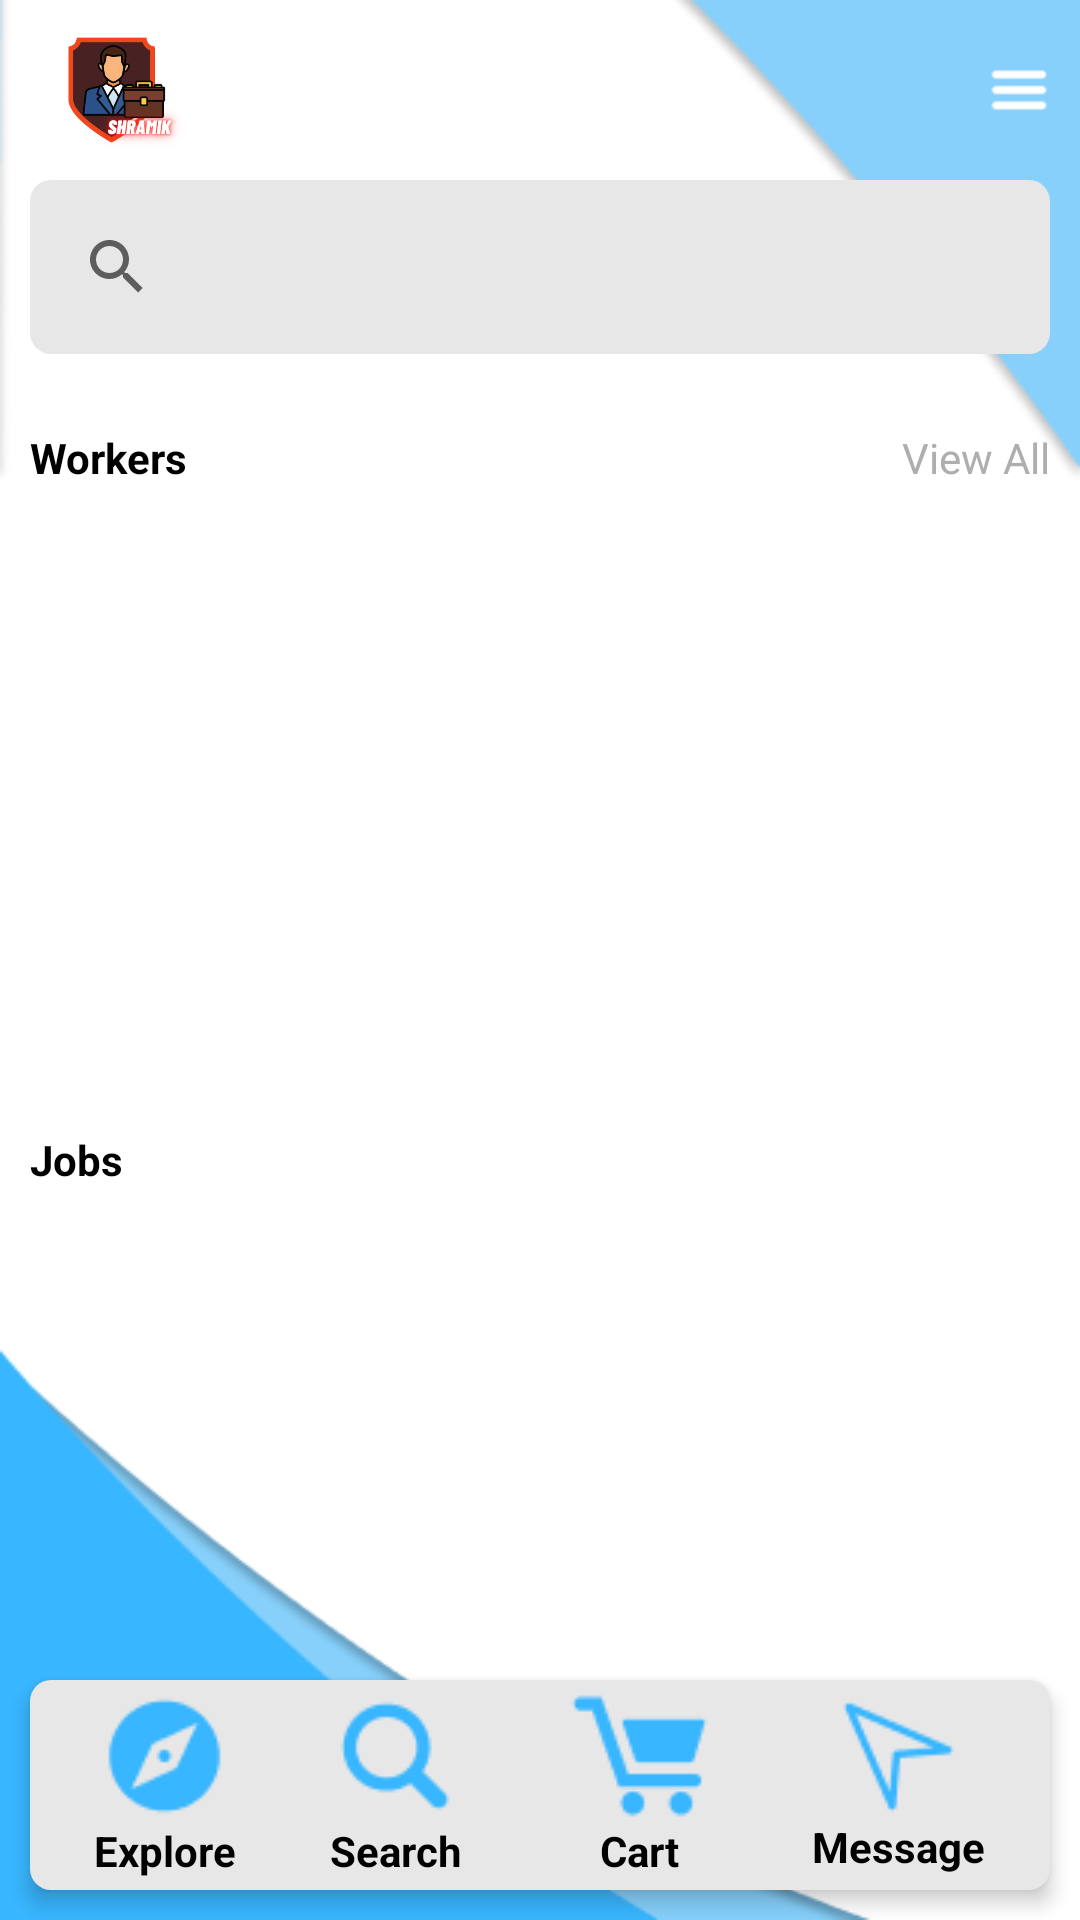

Named icons in this screenshot (1080*1920) and their centers, (x=x, y=y):
menu: (x=1019, y=90)
